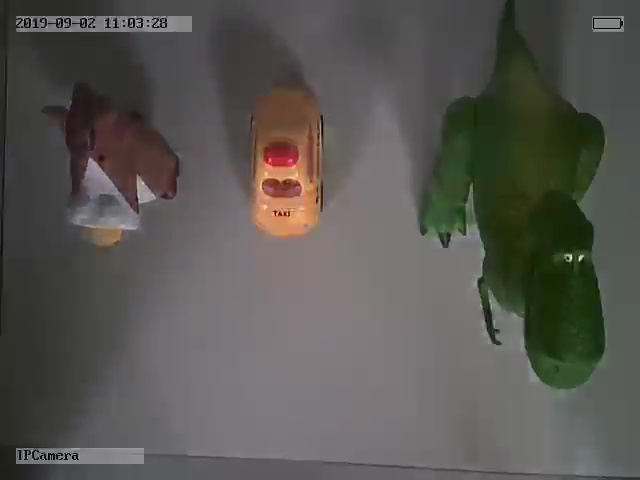car: (247, 84, 327, 241)
horse: (43, 83, 182, 249)
rex: (417, 14, 608, 391)
